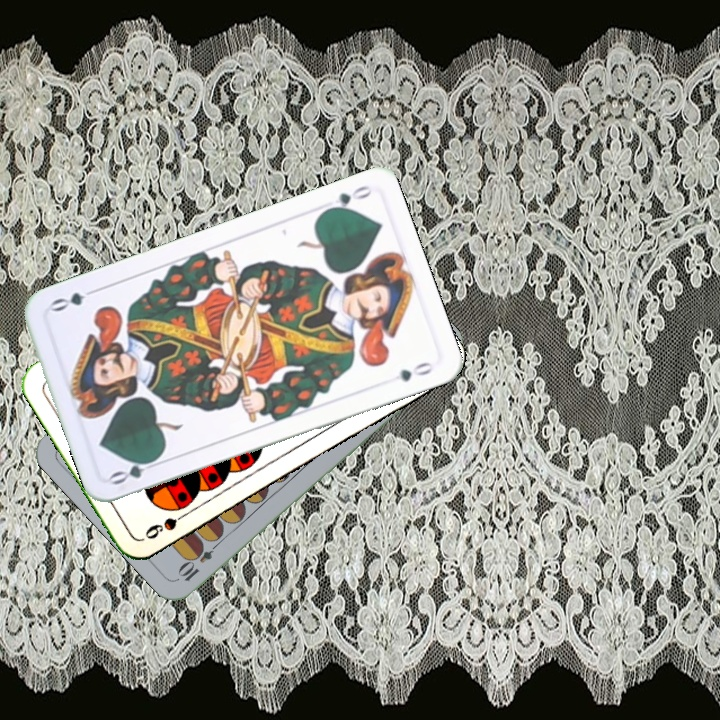E10: (175, 535, 224, 584)
GO: (106, 452, 164, 488), (318, 181, 374, 216)
S9: (140, 506, 193, 542)
